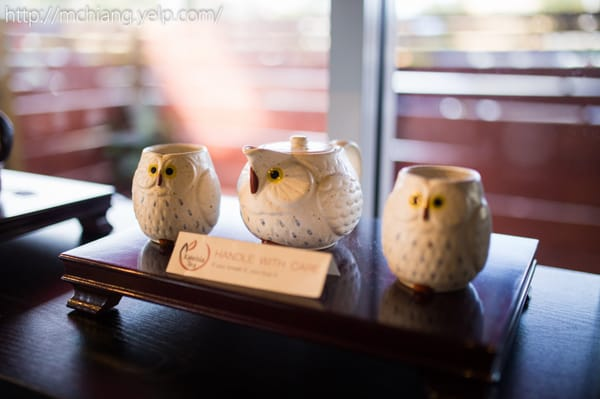soup: (236, 135, 363, 251), (131, 143, 223, 255)
